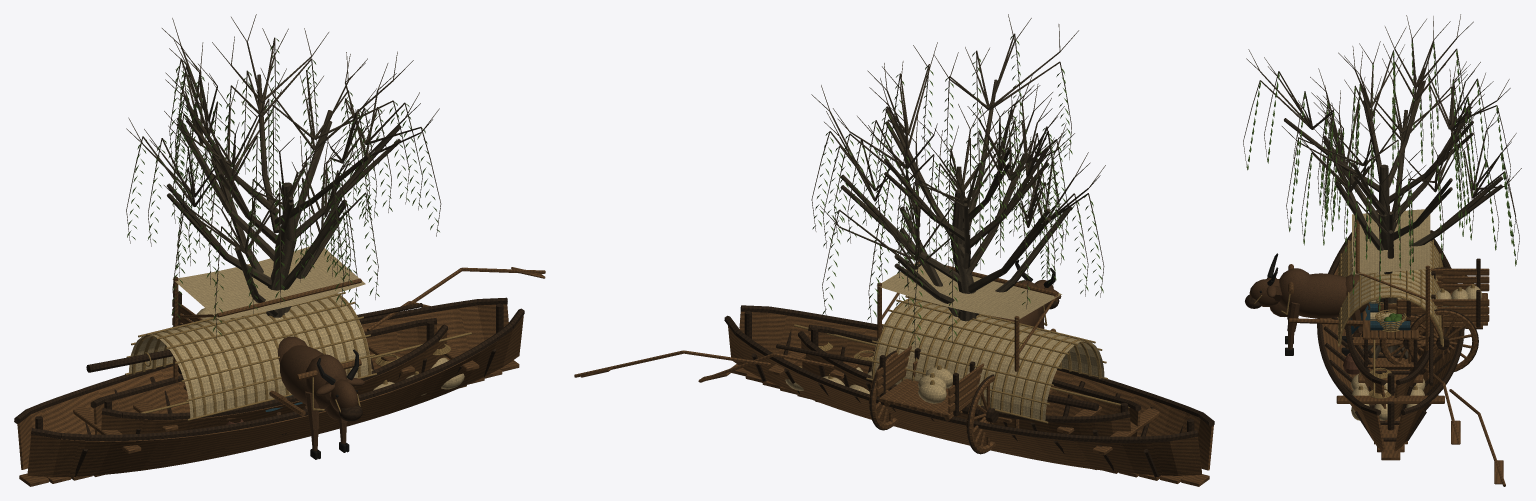
Rendered from period-life.glb.
The picture shows the model from 3 angles, left to right: view 1: azimuth 30°, elevation 25°; view 2: azimuth 150°, elevation 25°; view 3: azimuth 270°, elevation 25°; orthographic projection. The views are drawn at different scales.
Visible parts, largest first — view 1: boat_cargo_aged-timber, tree_willow_willow-bark, tree_bare_willow-bark, boat_cargo_unbleached-hemp, boat_cargo_woven-bamboo, boat_cargo_dark-endgrain, boat_skiff_aged-timber, tree_willow_spring-green, stall_cloth_unbleached-hemp, cart_ox_ox-brown-hide, boat_skiff_dark-endgrain, stall_cloth_aged-timber (+3 smaller); view 2: boat_cargo_aged-timber, tree_willow_willow-bark, tree_bare_willow-bark, boat_cargo_unbleached-hemp, boat_cargo_dark-endgrain, boat_cargo_woven-bamboo, tree_willow_spring-green, boat_skiff_aged-timber, cart_ox_aged-timber, boat_skiff_dark-endgrain, stall_produce_unbleached-hemp, stall_cloth_unbleached-hemp (+3 smaller); view 3: tree_willow_willow-bark, tree_bare_willow-bark, tree_willow_spring-green, boat_cargo_aged-timber, cart_ox_aged-timber, cart_ox_ox-brown-hide, boat_cargo_dark-endgrain, boat_cargo_woven-bamboo, boat_cargo_unbleached-hemp, stall_cloth_unbleached-hemp, stall_cloth_aged-timber, boat_skiff_aged-timber (+8 smaller).
Boxes of the visible parts, x1,y1,x2,y2 form: boat_cargo_aged-timber: (17,267,545,486); tree_willow_willow-bark: (126,37,441,338); tree_bare_willow-bark: (126,14,439,317); boat_cargo_unbleached-hemp: (129,294,464,418); boat_cargo_woven-bamboo: (125,292,450,420); boat_cargo_dark-endgrain: (14,297,524,476); boat_skiff_aged-timber: (93,301,447,434); tree_willow_spring-green: (127,38,439,335); stall_cloth_unbleached-hemp: (172,246,365,319); cart_ox_ox-brown-hide: (275,336,364,451); boat_skiff_dark-endgrain: (90,318,448,433); stall_cloth_aged-timber: (173,276,361,382); boat_cargo_aged-timber: (574,311,1213,486); tree_willow_willow-bark: (811,33,1104,347); tree_bare_willow-bark: (811,14,1105,321); boat_cargo_unbleached-hemp: (785,299,1104,420); boat_cargo_dark-endgrain: (724,305,1214,477); boat_cargo_woven-bamboo: (799,295,1107,423); tree_willow_spring-green: (812,35,1103,344); boat_skiff_aged-timber: (698,331,1140,436); cart_ox_aged-timber: (869,297,1058,453); boat_skiff_dark-endgrain: (798,324,1141,436); stall_produce_unbleached-hemp: (877,264,1061,319); stall_cloth_unbleached-hemp: (879,263,1054,320); tree_willow_willow-bark: (1243,41,1519,361); tree_bare_willow-bark: (1246,14,1521,360); tree_willow_spring-green: (1247,42,1516,310); boat_cargo_aged-timber: (1322,265,1505,486); cart_ox_aged-timber: (1288,264,1489,371); cart_ox_ox-brown-hide: (1249,268,1370,349); boat_cargo_dark-endgrain: (1317,210,1464,441); boat_cargo_woven-bamboo: (1338,240,1443,398); boat_cargo_unbleached-hemp: (1342,241,1439,420); stall_cloth_unbleached-hemp: (1352,209,1430,320); stall_cloth_aged-timber: (1355,207,1429,379); boat_skiff_aged-timber: (1352,332,1460,444).
Size of the model in its own units: 12.05 by 7.52 by 5.88.
10 materials, 10 textured.
